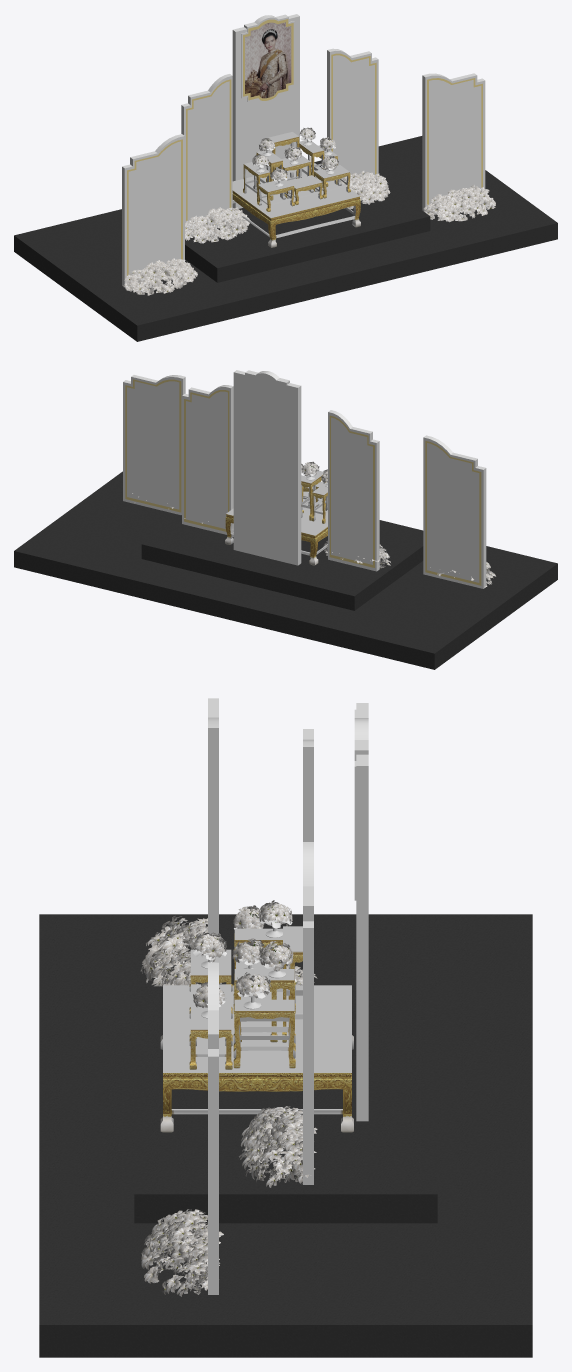
Rendered from QueenAltar.fbx.
3 renders of one model, top to bottom at view 1: azimuth 30°, elevation 25°; view 2: azimuth 150°, elevation 25°; view 3: azimuth 270°, elevation 25°, orthographic. The views are drawn at different scales.
Visible parts, largest first — view 1: AlterFloor, Queenboard2, Queenboard1, Queenboard1.001, Queenboard1.002, Queenboard1.003, AltarTable_base, WhiteFlowerBush.001, WhiteFlowerBush, WhiteFlowerBush.003, WhiteFlowerBush.002, AltarTable_2.001 (+6 smaller); view 2: AlterFloor, Queenboard2, Queenboard1.001, Queenboard1, Queenboard1.002, Queenboard1.003, AltarTable_base, AltarTable_2.007, AltarTable_2.005; view 3: AlterFloor, AltarTable_base, Queenboard2, WhiteFlowerBush, WhiteFlowerBush.002, Queenboard1.003, Queenboard1, WhiteFlowerBush.001, Queenboard1.001, AltarTable_2.004, AltarTable_2.006, AltarTable_2 (+4 smaller).
Boxes of the visible parts, bbox=[...] form: AlterFloor: bbox=[14, 136, 557, 341]; Queenboard2: bbox=[232, 14, 299, 208]; Queenboard1: bbox=[422, 73, 485, 211]; Queenboard1.001: bbox=[122, 134, 184, 287]; Queenboard1.002: bbox=[181, 74, 232, 229]; Queenboard1.003: bbox=[327, 48, 378, 179]; AltarTable_base: bbox=[232, 162, 360, 247]; WhiteFlowerBush.001: bbox=[123, 258, 197, 295]; WhiteFlowerBush: bbox=[423, 184, 495, 222]; WhiteFlowerBush.003: bbox=[185, 207, 250, 243]; WhiteFlowerBush.002: bbox=[340, 170, 390, 208]; AltarTable_2.001: bbox=[257, 179, 294, 211]; AlterFloor: bbox=[14, 471, 557, 669]; Queenboard2: bbox=[233, 370, 301, 565]; Queenboard1.001: bbox=[423, 435, 486, 588]; Queenboard1: bbox=[123, 375, 185, 514]; Queenboard1.002: bbox=[328, 410, 379, 571]; Queenboard1.003: bbox=[182, 385, 233, 534]; AltarTable_base: bbox=[225, 491, 327, 565]; AltarTable_2.007: bbox=[301, 470, 325, 520]; AltarTable_2.005: bbox=[311, 482, 327, 523]; AlterFloor: bbox=[39, 914, 532, 1357]; AltarTable_base: bbox=[160, 985, 353, 1132]; Queenboard2: bbox=[354, 703, 368, 1121]; WhiteFlowerBush: bbox=[141, 1209, 223, 1296]; WhiteFlowerBush.002: bbox=[239, 1106, 317, 1187]; Queenboard1.003: bbox=[303, 842, 313, 1184]; Queenboard1: bbox=[208, 962, 218, 1294]; WhiteFlowerBush.001: bbox=[140, 916, 221, 986]; Queenboard1.001: bbox=[208, 698, 218, 934]; AltarTable_2.004: bbox=[233, 999, 295, 1068]; AltarTable_2.006: bbox=[233, 969, 295, 1049]; AltarTable_2: bbox=[189, 1004, 232, 1069].
Bounding box in the file's own units: 362 × 177 × 184.
